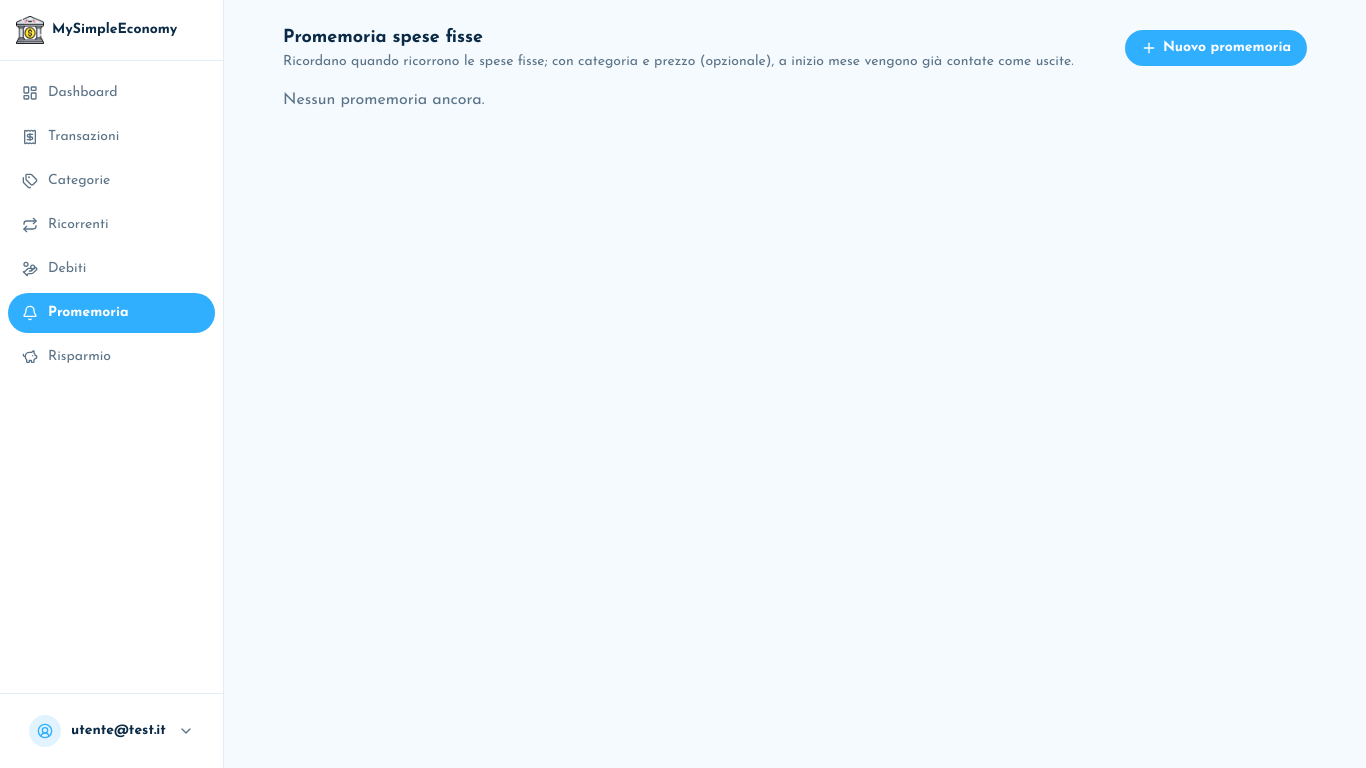
Test: i dati prima del clic › passando sopra il link la richiesta parte prima del clic
Expected: the heading "Promemoria spese fisse" is shown, x1=283 y1=28 x2=483 y2=47
Click the link "Debiti" at point(54, 269), box x1=22 y1=261 x2=86 y2=277
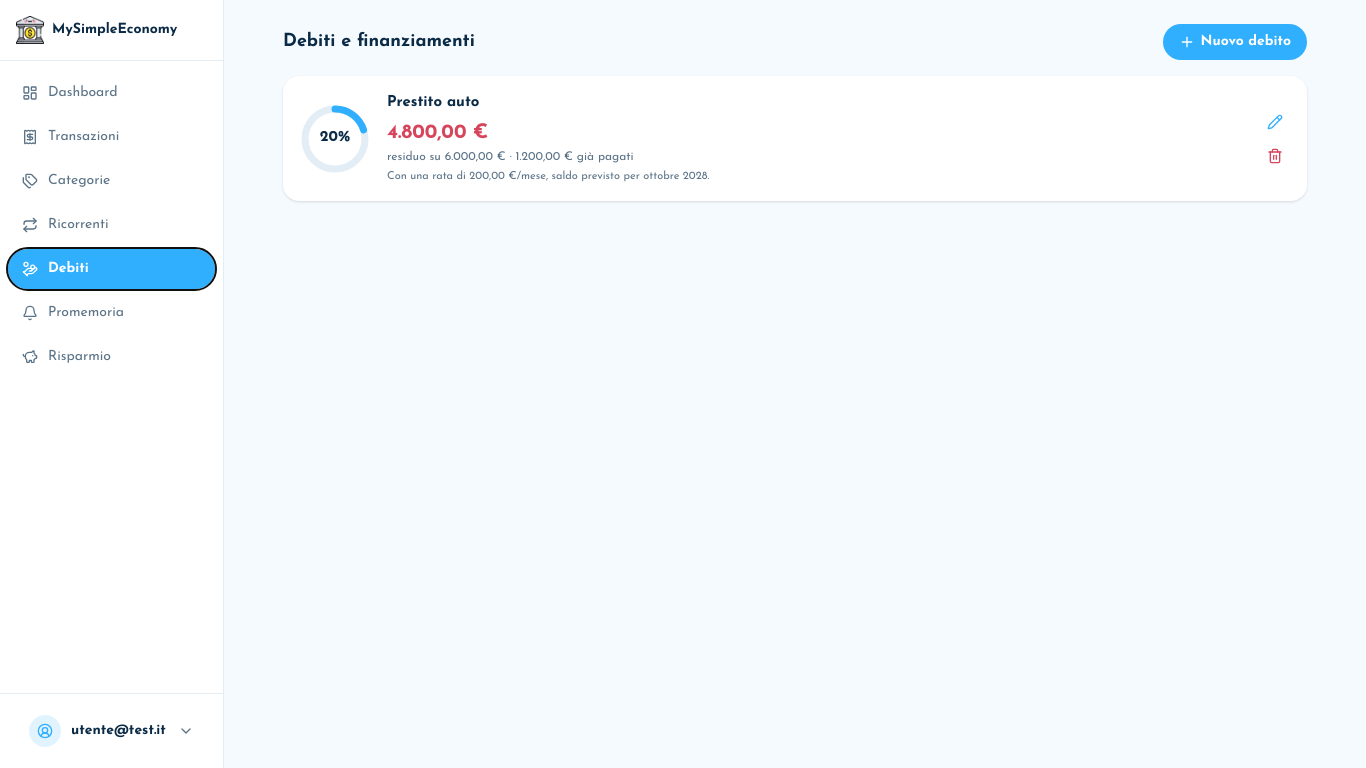
Now the text "Prestito auto" is shown, box x1=387 y1=95 x2=479 y2=110
